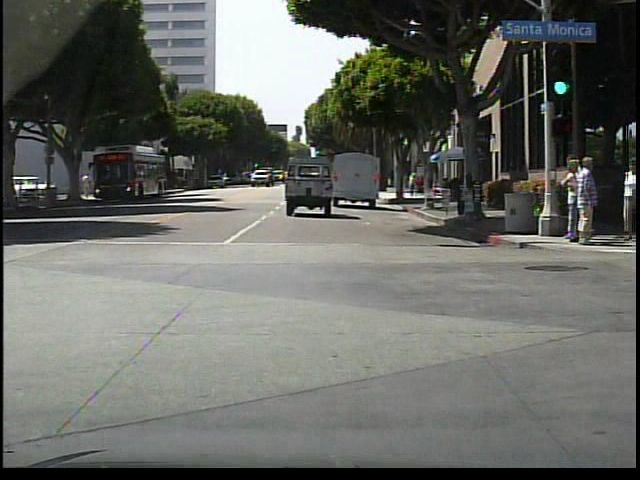person: (568, 154, 603, 252), (564, 152, 587, 246), (562, 157, 582, 244), (618, 158, 639, 240), (82, 172, 92, 201), (408, 171, 418, 196), (72, 176, 81, 201), (403, 170, 409, 197)
